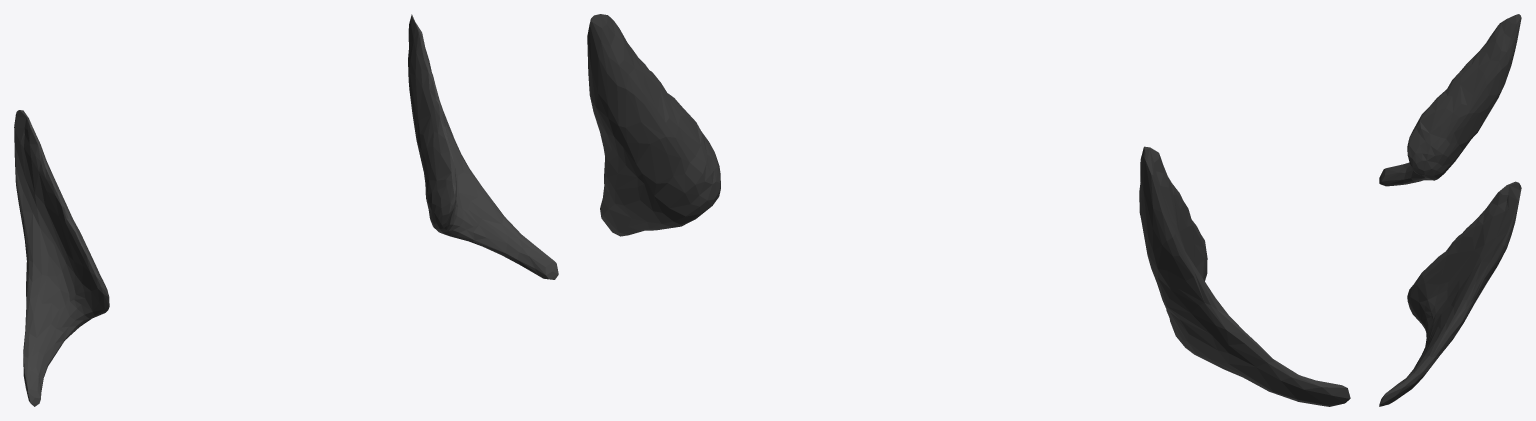
File: m_popliteus.glb
The picture shows the model from 3 angles, left to right: view 1: azimuth 30°, elevation 25°; view 2: azimuth 150°, elevation 25°; view 3: azimuth 270°, elevation 25°; orthographic projection. The views are drawn at different scales.
Parts seen in each view (by area): view 1: m_popliteus; view 2: m_popliteus; view 3: m_popliteus.
Boxes of the visible parts, x1,y1,x2,y2 form: m_popliteus: (14,14,558,406); m_popliteus: (587,14,1350,406); m_popliteus: (1379,14,1521,406).
Bounding box in the file's own units: 0.0527 × 0.0213 × 0.0139.
Materials: 1 (1 with a texture image).
